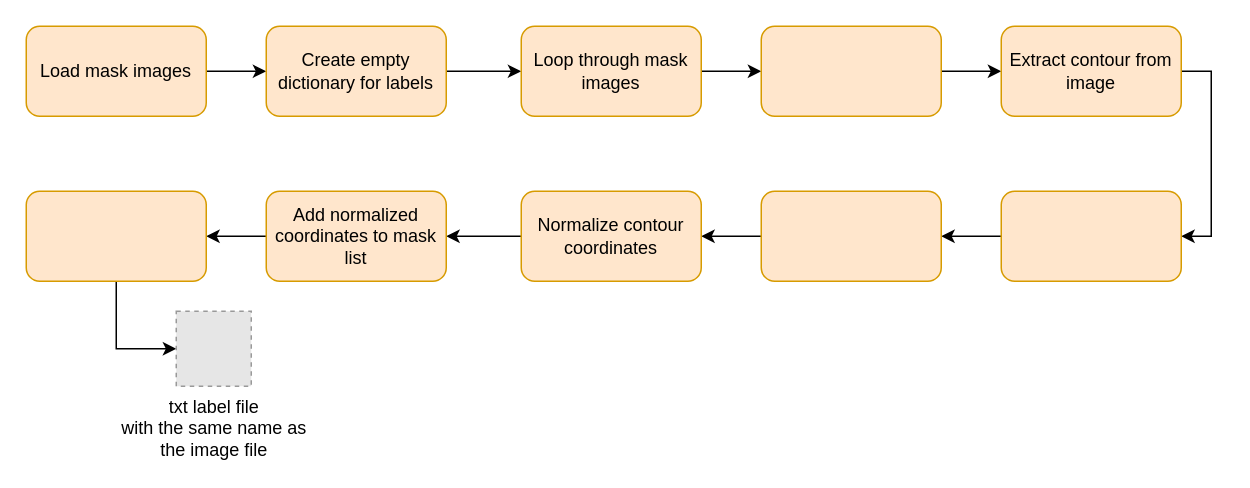
The diagram is 1250 pixels wide and 488 high, and some of its shapes have lost their labels. Grey dashed boxes stand in for pictures. Here are the shapes that lost their labels. From the top down, the centre of each, then its label:
At [850,70]: "Read image and preprocess".
At [115,235]: "Save mask list to txt file".
At [850,235]: "Loop through contours".
At [1090,235]: "Create empty list for mask".
